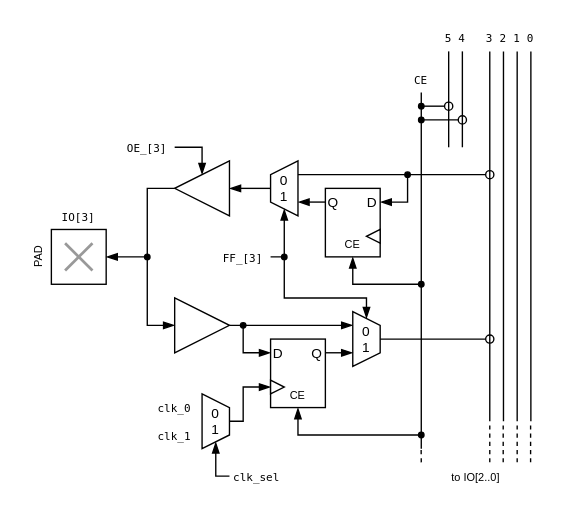
The diagram is 567 pixels wide and 512 high, and some of its shapes have lost their labels. Each missing label, with the centre of its shape:
"TRG" goes at (201,325).
"TRI" goes at (201,188).
